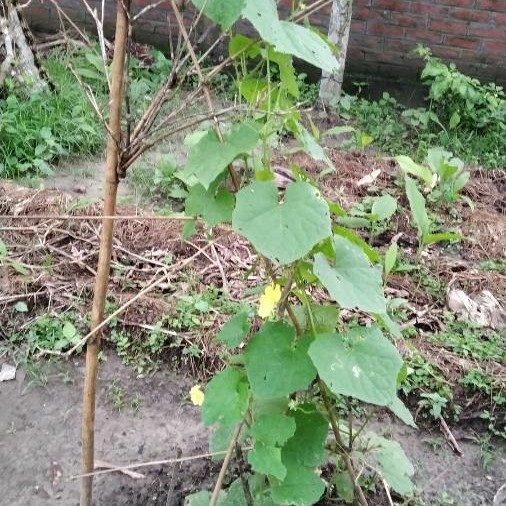obstacle: (187, 97, 386, 476), (396, 29, 471, 235), (7, 67, 92, 177)
